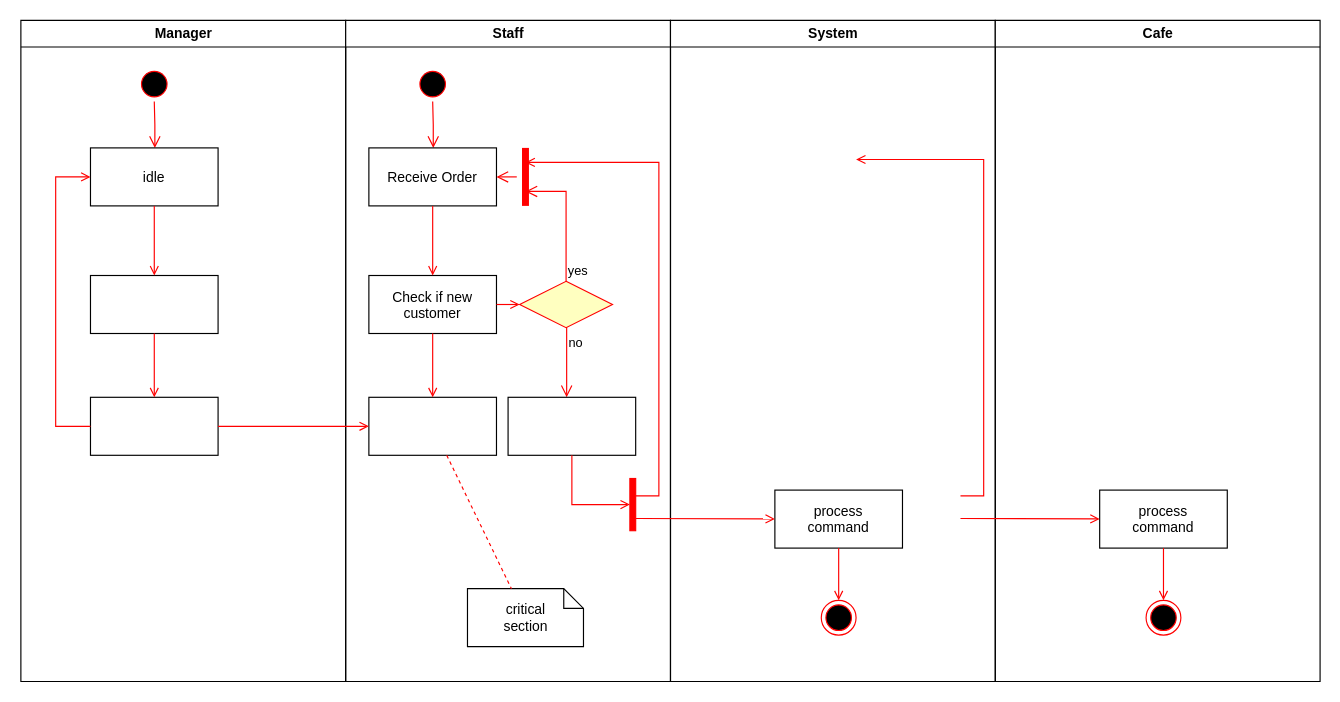
Image size: 1340x702. Some labels were removed from this diagram. Each missing label, with the box of its shape:
command queue: (368, 396, 496, 455)
dispatch command worker thread: (507, 396, 636, 455)
post command: (89, 396, 218, 455)
queue empty: (519, 280, 612, 328)
user action: (89, 274, 218, 334)
